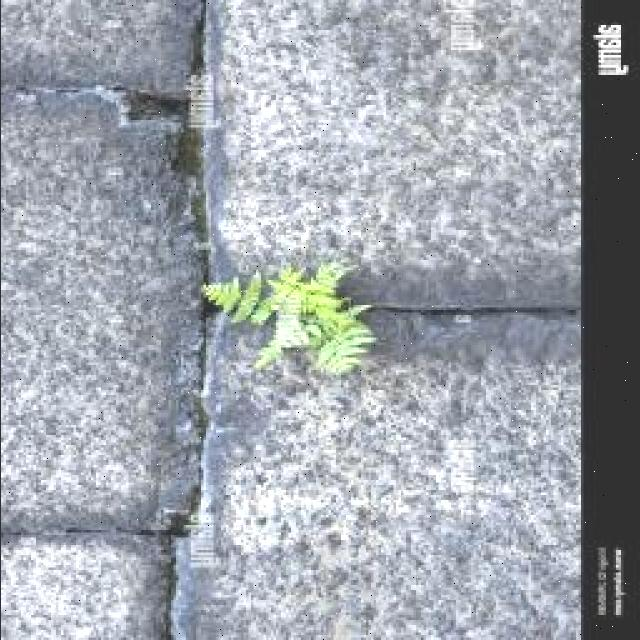crack: (0, 7, 590, 162), (171, 15, 223, 626), (171, 0, 214, 222), (11, 81, 184, 109), (156, 522, 187, 640), (2, 527, 196, 544), (363, 303, 580, 317)
dampens: (195, 343, 569, 638)
vegetation: (200, 257, 377, 376), (186, 328, 298, 494), (203, 273, 264, 325), (314, 260, 351, 290)
